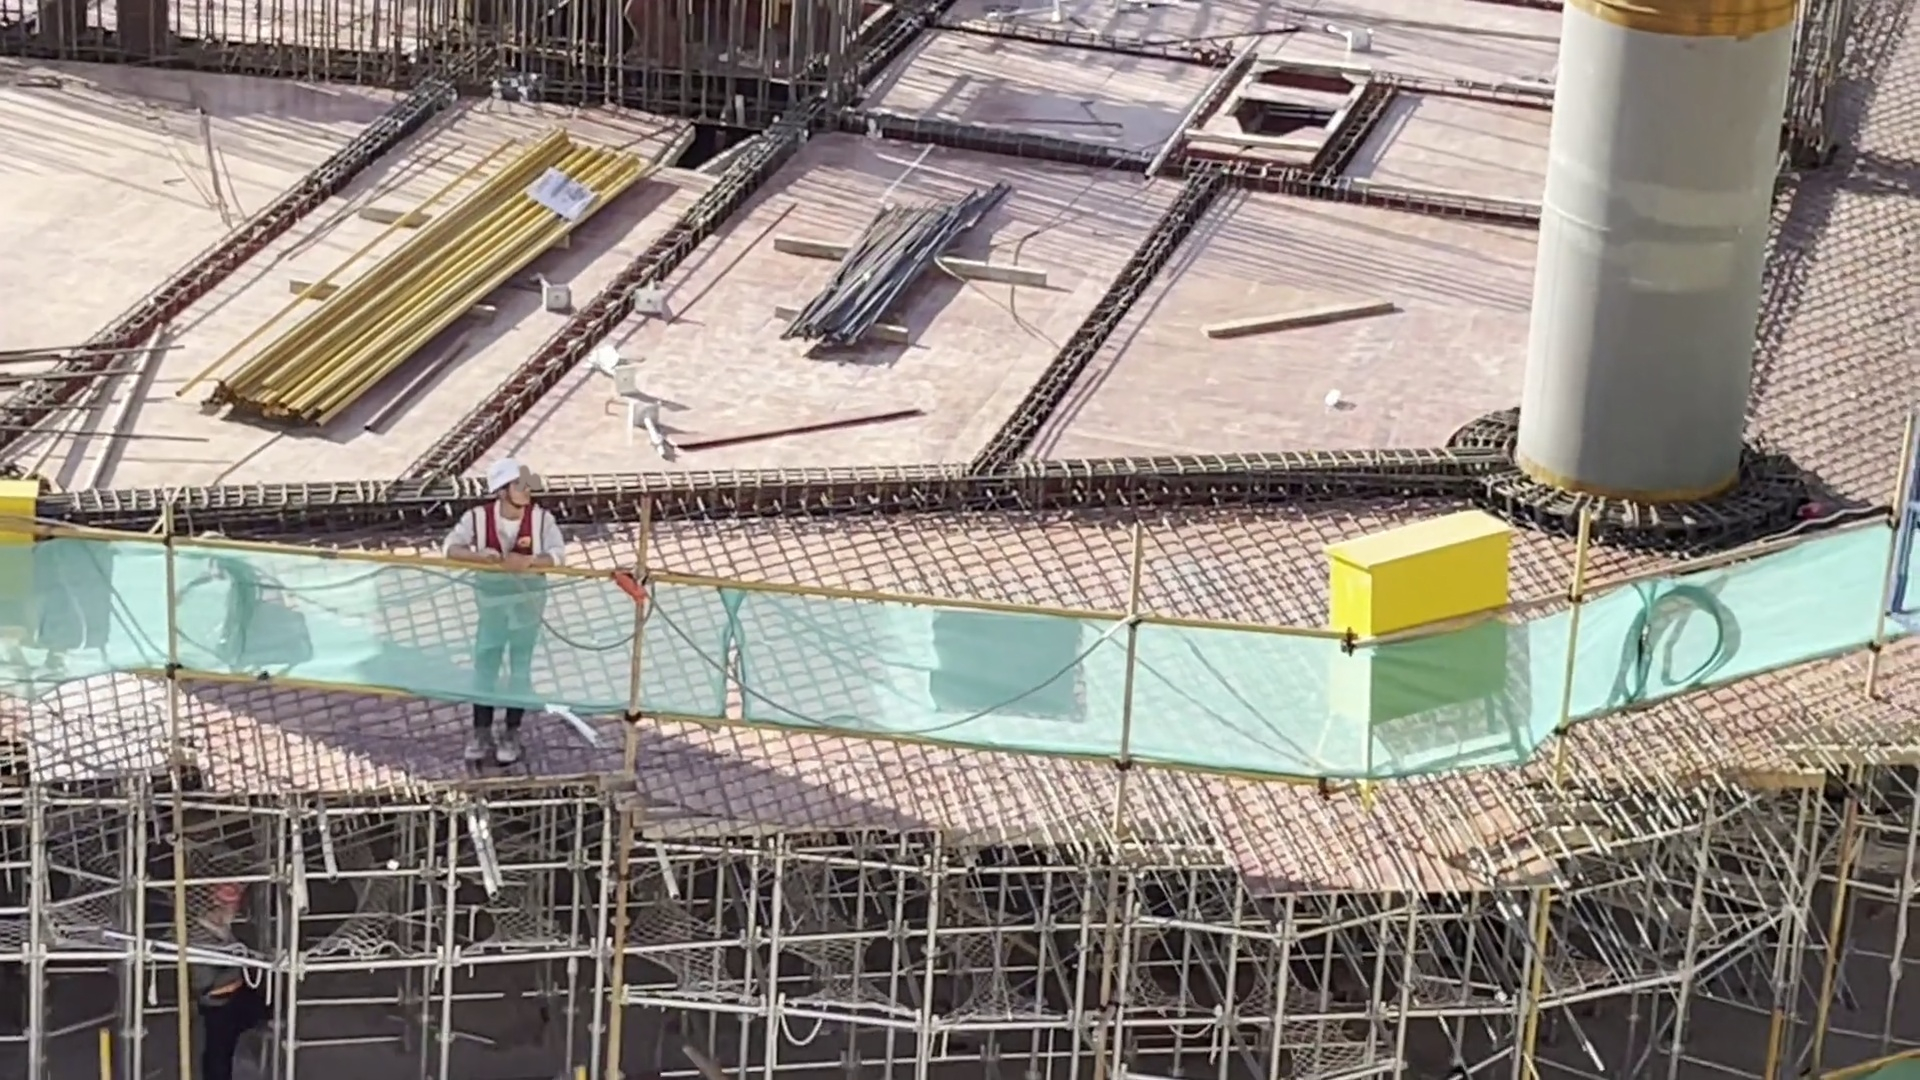helmet: (468, 451, 521, 506), (221, 872, 244, 901)
person: (474, 460, 548, 758), (164, 859, 258, 1079), (184, 846, 269, 1080)
vest: (469, 519, 543, 656), (196, 894, 256, 996)
